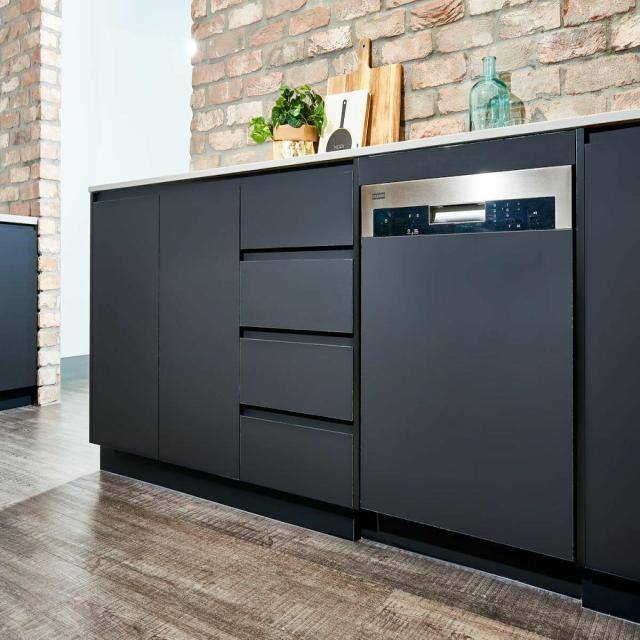dishwasher: (359, 159, 576, 562)
